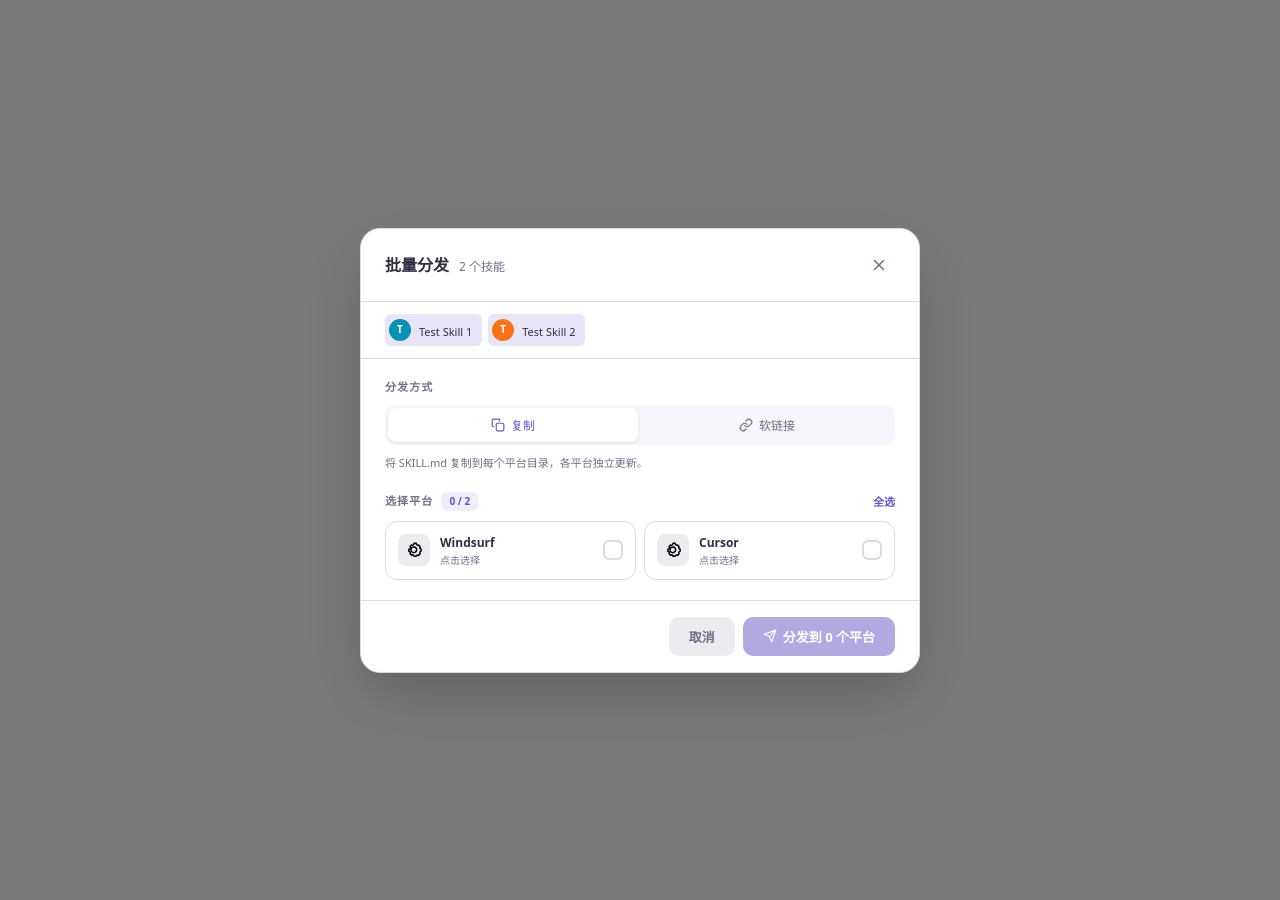
BatchSyncModal › toggle all selects all platforms
The width and height of the screenshot is (1280, 900).
Click the button with class "deploy-select-all" at point(884, 501), box x1=873 y1=493 x2=895 y2=509
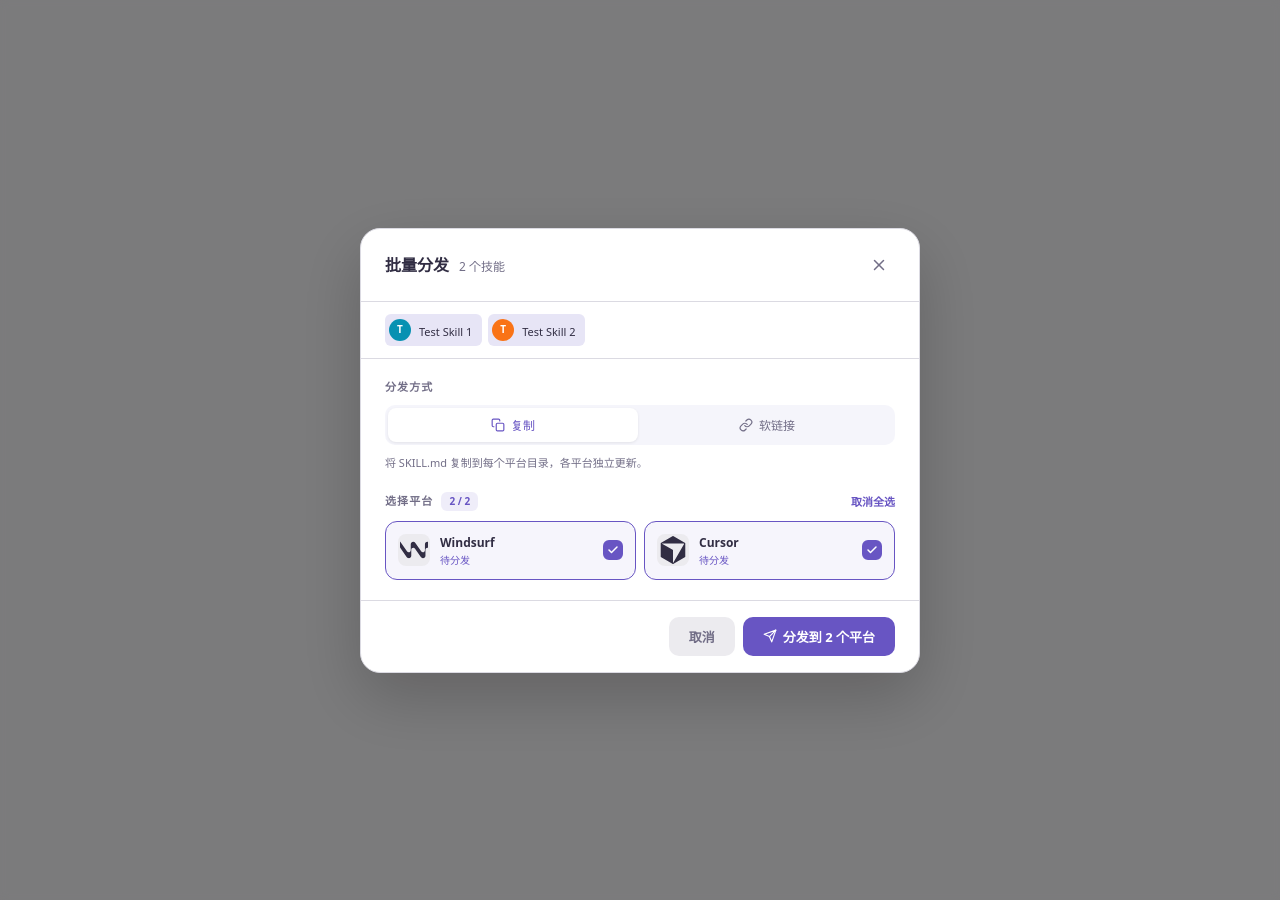
Check: the text "2 / 2" is shown, box x1=441 y1=492 x2=478 y2=510
